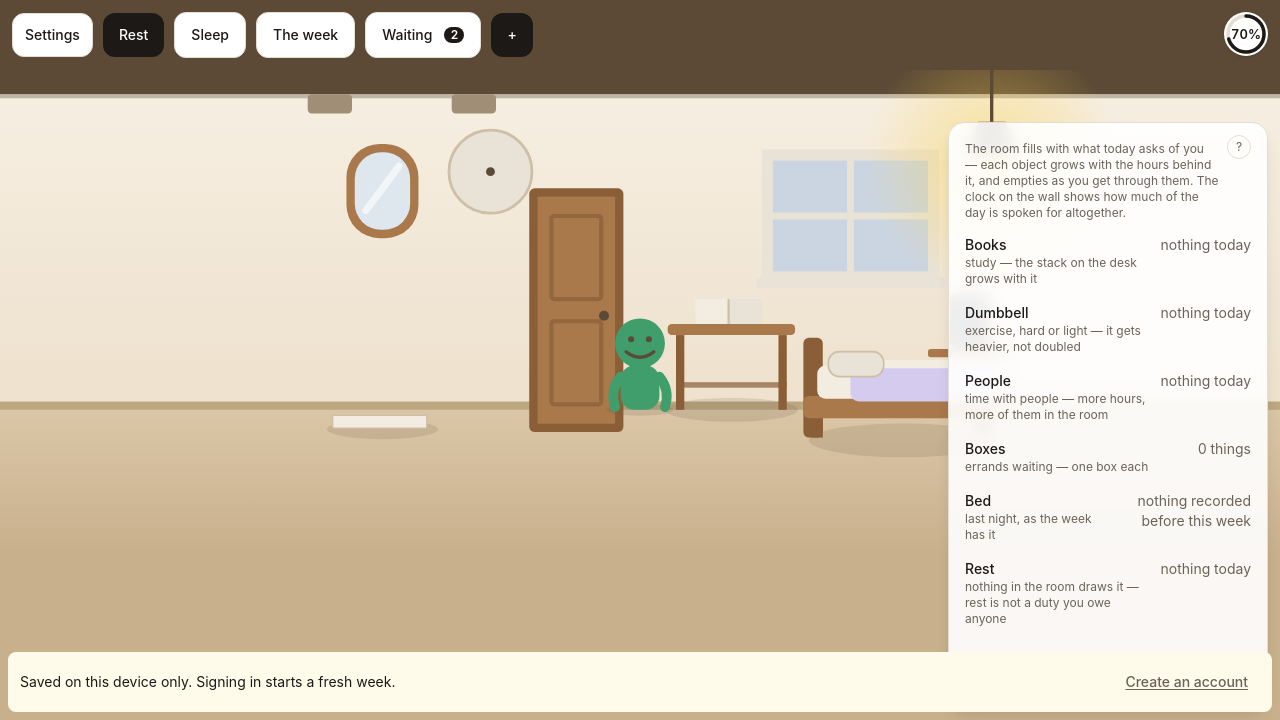
it: pressing Later › says so when there was nowhere to put it
Click the button with test id "open-week".
click(306, 35)  # box x1=256 y1=12 x2=355 y2=58
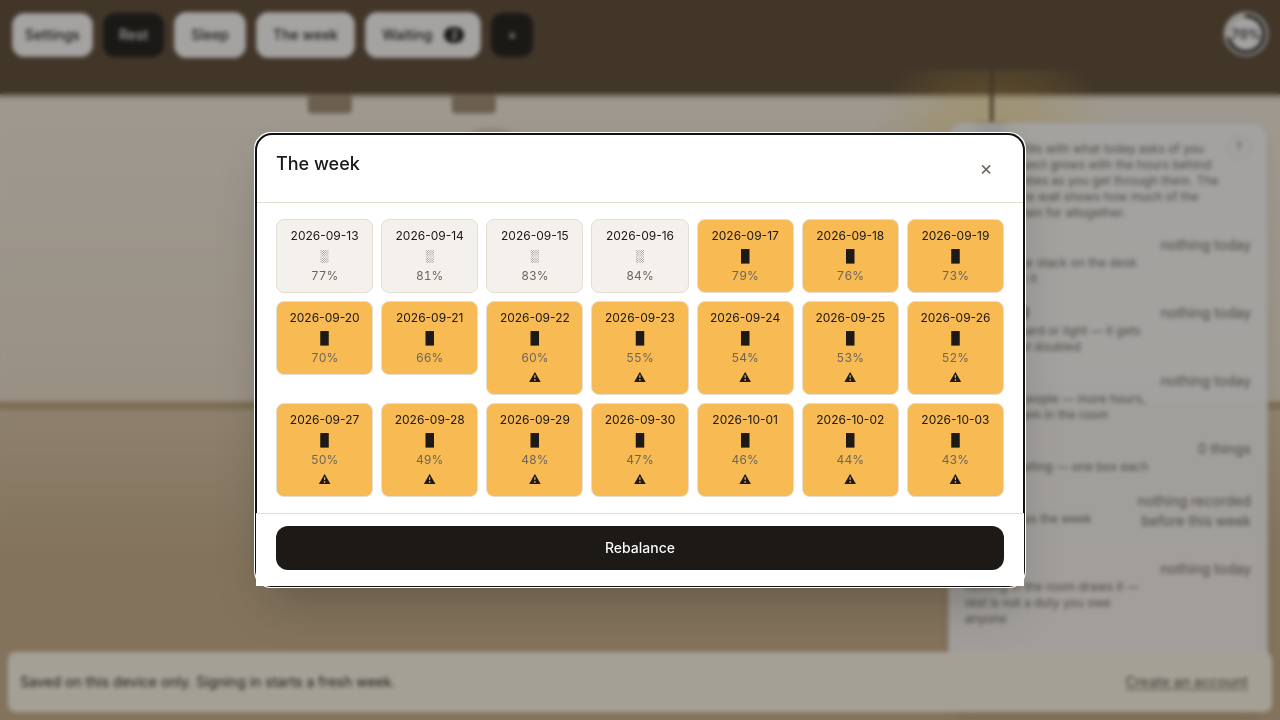
Click the button with test id "day-3".
click(640, 256)  # box x1=591 y1=219 x2=688 y2=293
(page scrolled)
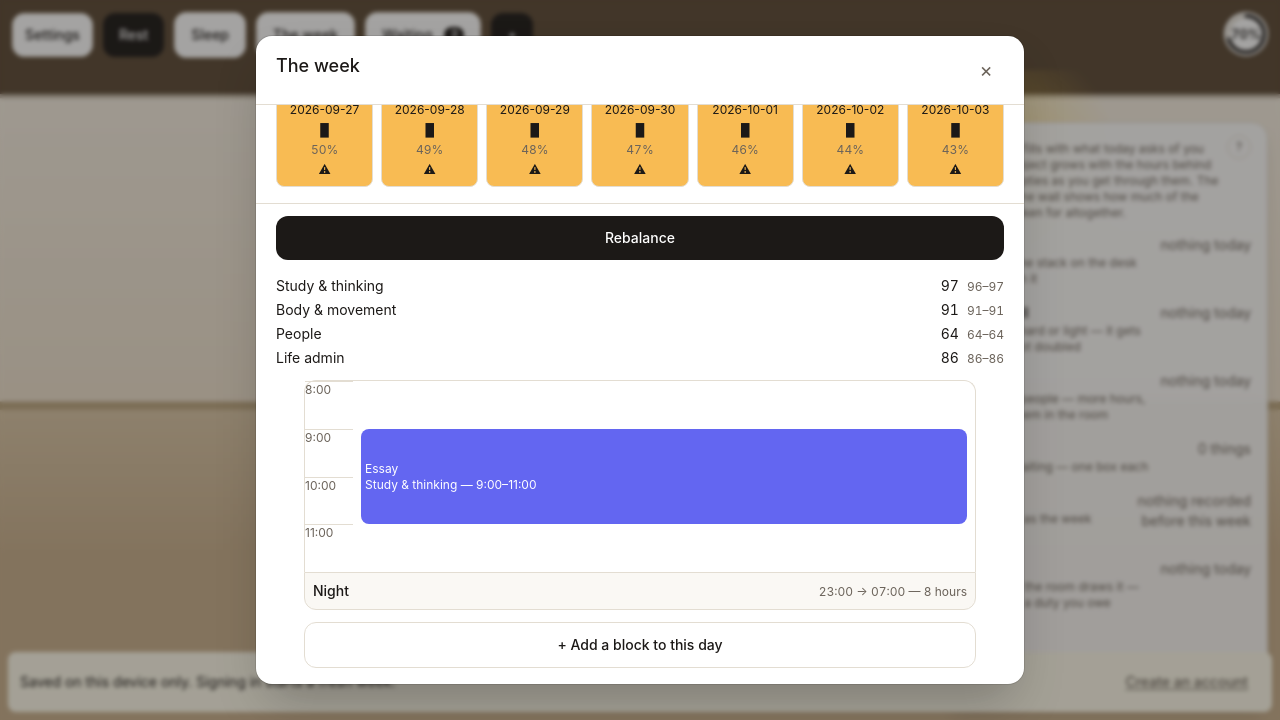
Click the button with test id "block-essay".
click(382, 468)  # box x1=361 y1=429 x2=967 y2=524
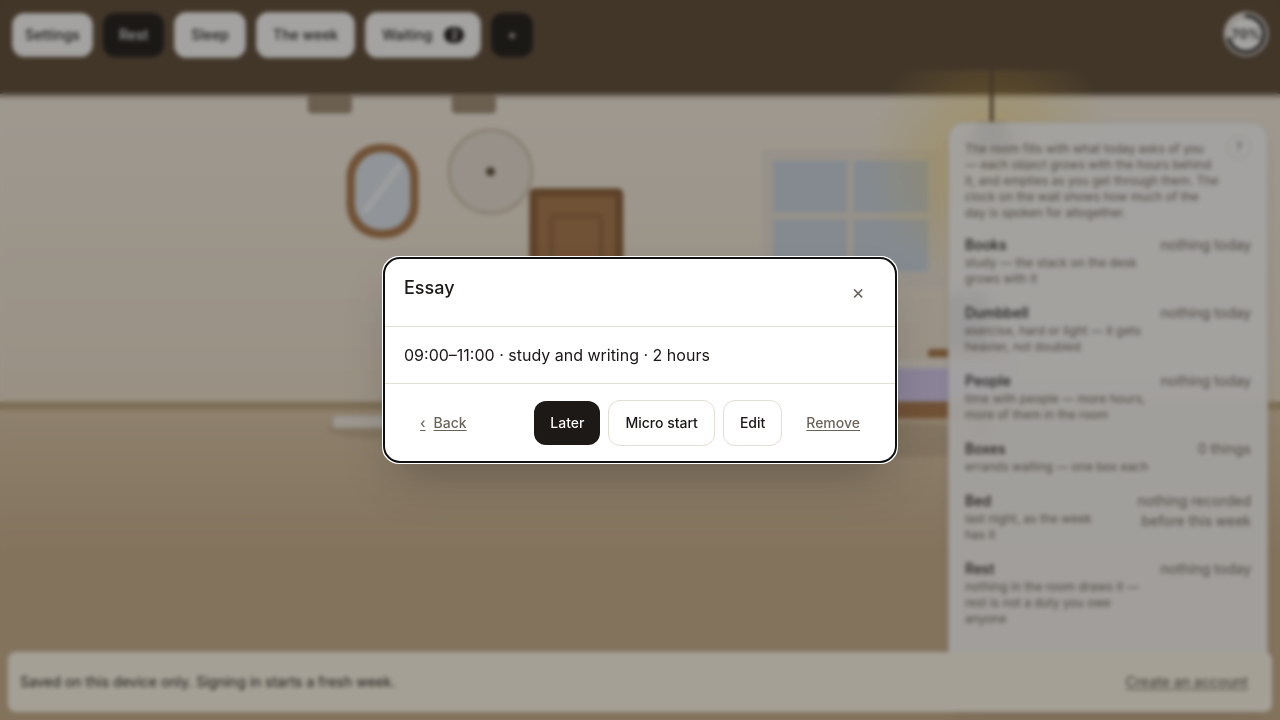
Click the button "Later".
click(567, 423)  # box x1=534 y1=401 x2=600 y2=445
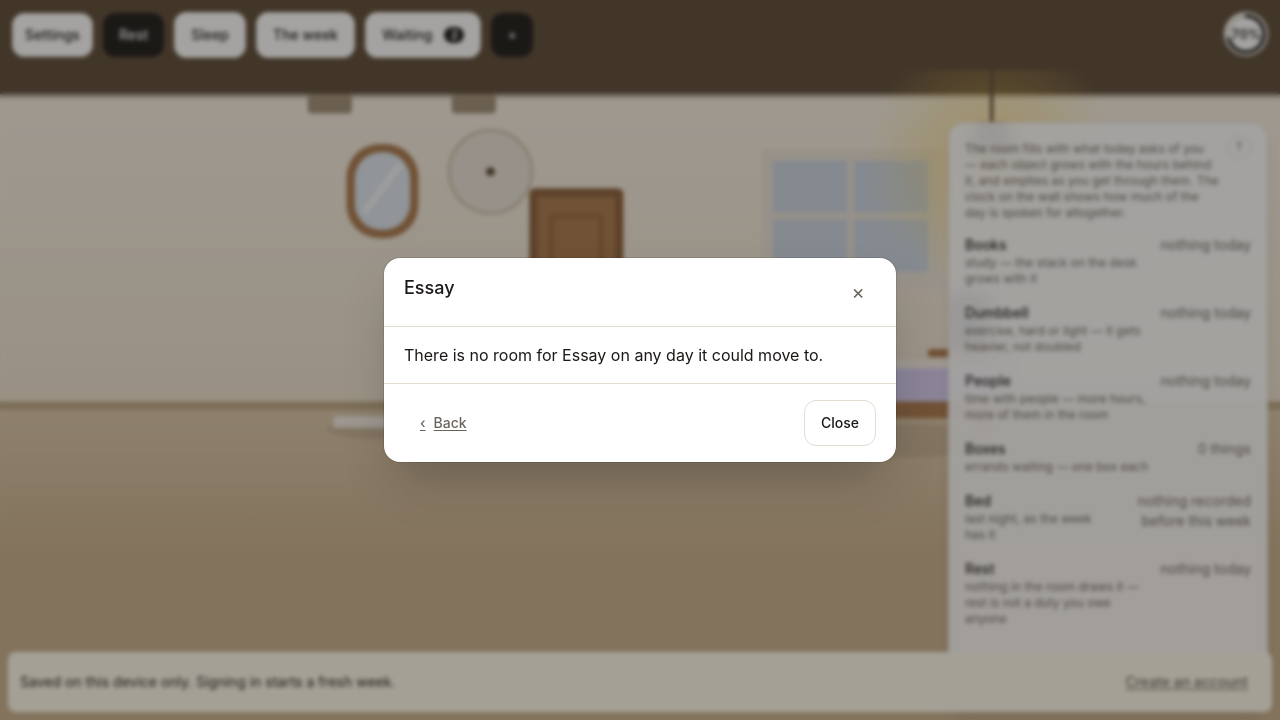
Result: the text with test id "confirm-later" shows "no room for Essay" at x1=404 y1=345 x2=823 y2=365
